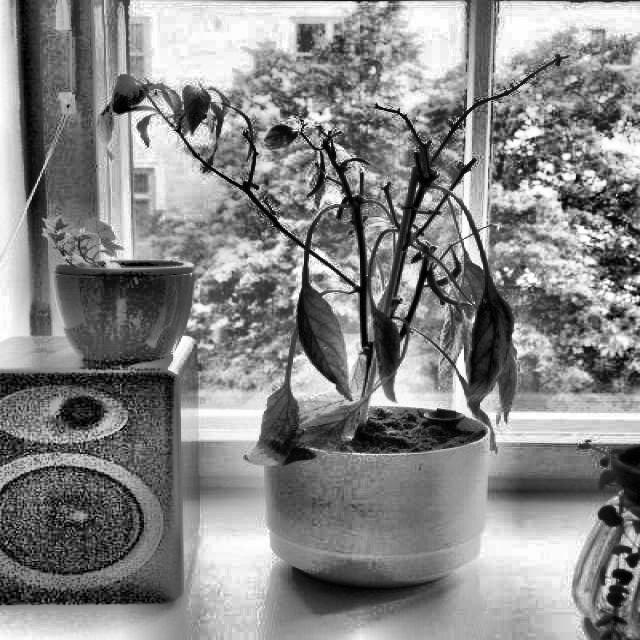plants: (213, 38, 533, 598), (39, 198, 205, 369)
